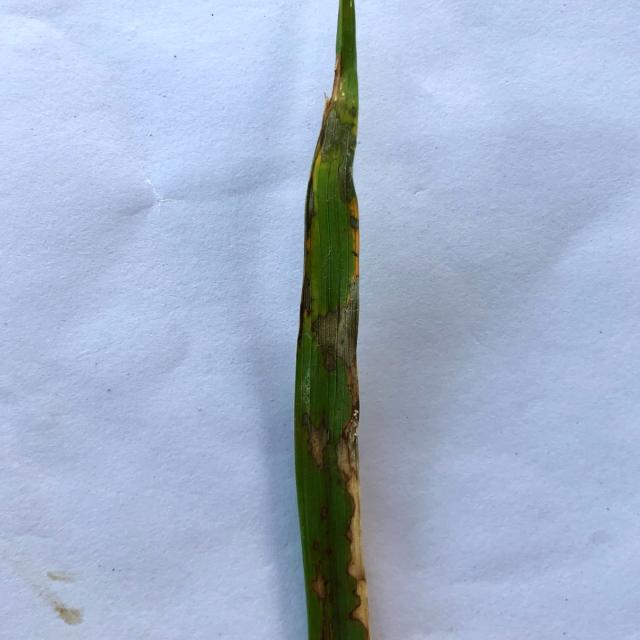leaf blight: (332, 409, 369, 640), (306, 298, 359, 410), (320, 56, 355, 156), (302, 161, 320, 297), (342, 192, 360, 296), (301, 415, 327, 468), (307, 570, 330, 609)
